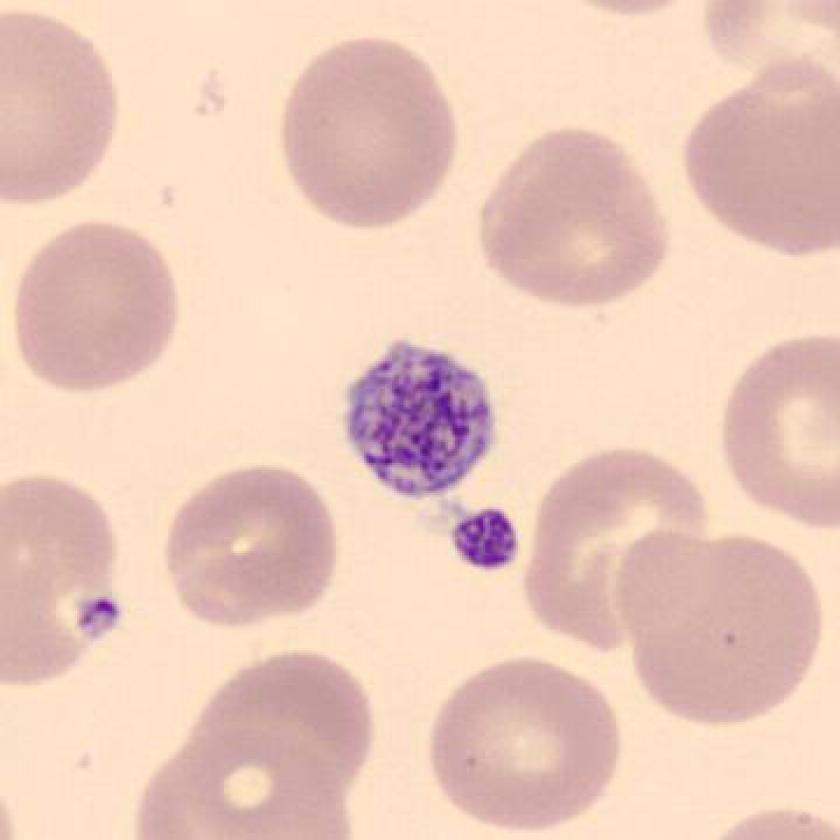platelets: (337, 337, 503, 503), (440, 501, 528, 582), (64, 586, 134, 649)
